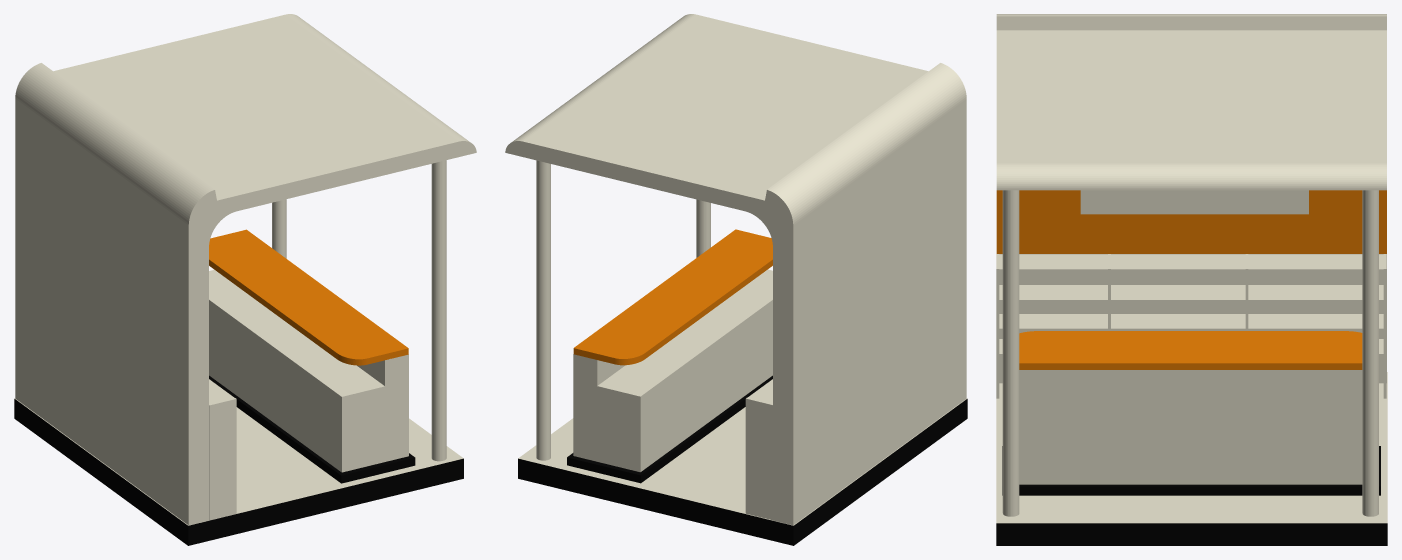
File: booth.glb
3 renders of one model, left to right at view 1: azimuth 30°, elevation 25°; view 2: azimuth 150°, elevation 25°; view 3: azimuth 270°, elevation 25°, orthographic. The views are drawn at different scales.
Visible parts, largest first — view 1: Cube.006, Cube.001, Cube, Cube.003, Cylinder, Cube.009, Cube.002, Cylinder.001; view 2: Cube.006, Cube.001, Cube, Cube.003, Cylinder.001, Cube.010, Cube.002, Cylinder; view 3: Cube.006, Cube.001, Cube, Cube.003, Cube.008, Cube.007, Cube.005, Cylinder, Cube.013, Cylinder.001, Cube.002, Cube.009 (+1 smaller).
Boxes of the visible parts, x1=… form: Cube.006: x1=15, y1=14, x2=476, y2=525; Cube.001: x1=209, y1=269, x2=408, y2=472; Cube: x1=14, y1=398, x2=463, y2=545; Cube.003: x1=209, y1=229, x2=408, y2=365; Cylinder: x1=431, y1=160, x2=446, y2=461; Cube.009: x1=209, y1=398, x2=236, y2=520; Cube.002: x1=209, y1=375, x2=415, y2=483; Cylinder.001: x1=272, y1=199, x2=286, y2=258; Cube.006: x1=505, y1=14, x2=966, y2=525; Cube.001: x1=573, y1=269, x2=772, y2=472; Cube: x1=518, y1=398, x2=967, y2=545; Cube.003: x1=573, y1=229, x2=772, y2=365; Cylinder.001: x1=536, y1=160, x2=550, y2=460; Cube.010: x1=745, y1=397, x2=772, y2=520; Cube.002: x1=567, y1=375, x2=772, y2=483; Cylinder: x1=696, y1=199, x2=710, y2=257; Cube.006: x1=996, y1=14, x2=1386, y2=383; Cube.001: x1=1019, y1=370, x2=1362, y2=484; Cube: x1=996, y1=372, x2=1387, y2=545; Cube.003: x1=1019, y1=331, x2=1362, y2=369; Cube.008: x1=999, y1=254, x2=1383, y2=273; Cube.007: x1=999, y1=285, x2=1383, y2=304; Cube.005: x1=999, y1=314, x2=1383, y2=333; Cylinder: x1=1002, y1=190, x2=1019, y2=516; Cube.013: x1=1080, y1=190, x2=1308, y2=214; Cylinder.001: x1=1362, y1=190, x2=1378, y2=516; Cube.002: x1=1002, y1=446, x2=1380, y2=495; Cube.009: x1=996, y1=254, x2=999, y2=398.
Bounding box in the file's own units: 8.41 × 9.73 × 8.78.
